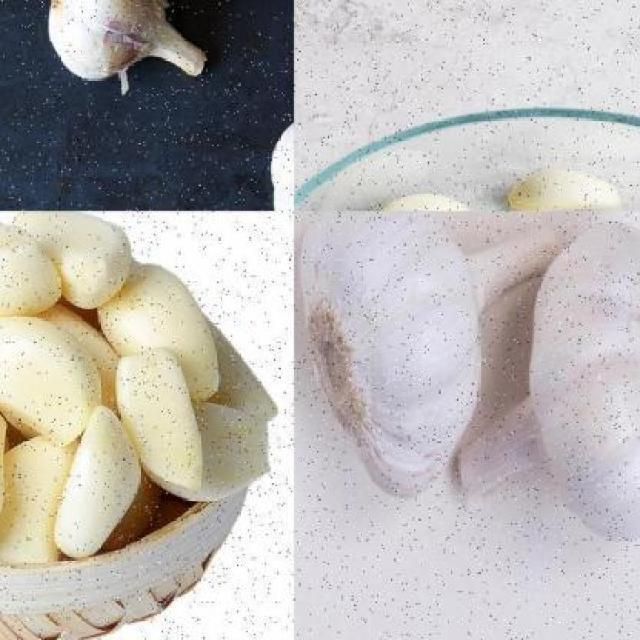garlic: (0, 211, 274, 560), (296, 210, 559, 502), (456, 214, 638, 546), (96, 264, 227, 400), (44, 0, 209, 92), (113, 350, 210, 500), (0, 314, 100, 449), (56, 404, 140, 561), (9, 212, 142, 310), (507, 168, 623, 212)
